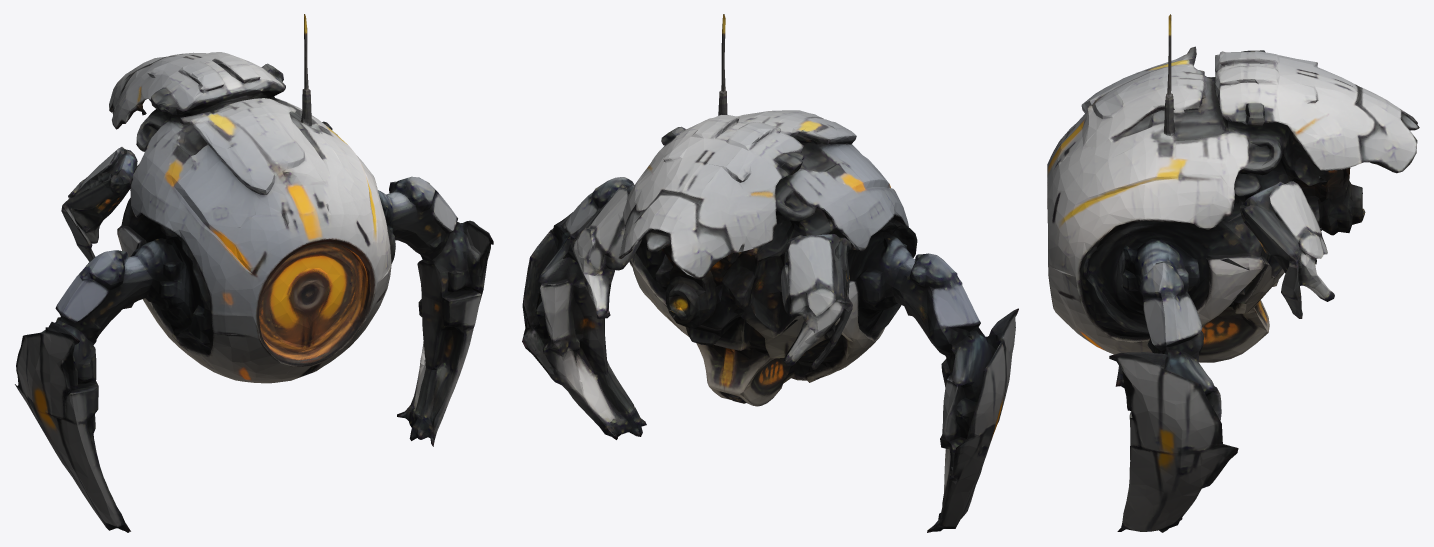
Rendered from brainhack-2025-robot.glb.
The picture shows the model from 3 angles, left to right: view 1: azimuth 30°, elevation 25°; view 2: azimuth 150°, elevation 25°; view 3: azimuth 270°, elevation 25°; orthographic projection. The views are drawn at different scales.
Visible parts, largest first — view 1: 3DGeom-1, 3DGeom-2; view 2: 3DGeom-1, 3DGeom-2, 3DGeom-3; view 3: 3DGeom-1, 3DGeom-3.
Boxes of the visible parts, box(x1,y1,x2,y2) form: 3DGeom-1: box(15, 14, 493, 532); 3DGeom-2: box(61, 147, 137, 261); 3DGeom-1: box(522, 14, 1018, 532); 3DGeom-2: box(781, 234, 852, 369); 3DGeom-3: box(570, 184, 641, 318); 3DGeom-1: box(1047, 14, 1419, 532); 3DGeom-3: box(1240, 181, 1334, 318).
Size of the model in its own units: 0.00867 by 0.00847 by 0.00594.
1 material, 1 textured.
